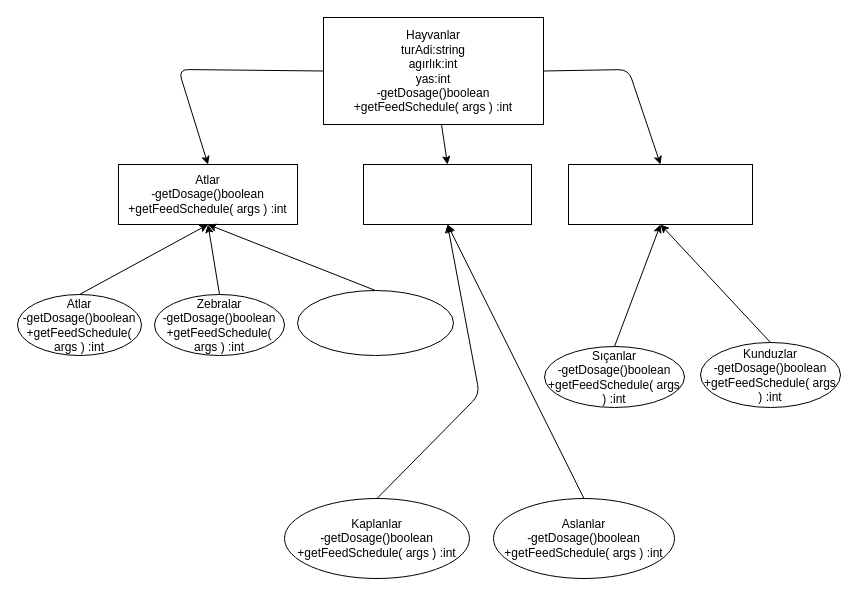
Some shapes in this 858 by 596 pixel diagram are drawn without their labels. Here are the shapes that lost their labels. From the top down, the centre of each, then its label:
At (x=447, y=194): "Kedigiller -getDosage()boolean +getFeedSchedule( args ) :int".
At (x=660, y=194): "Kemirgengiller -getDosage()boolean +getFeedSchedule( args ) :int".
At (x=375, y=323): "Eşşekler -getDosage()boolean +getFeedSchedule( args ) :int".
